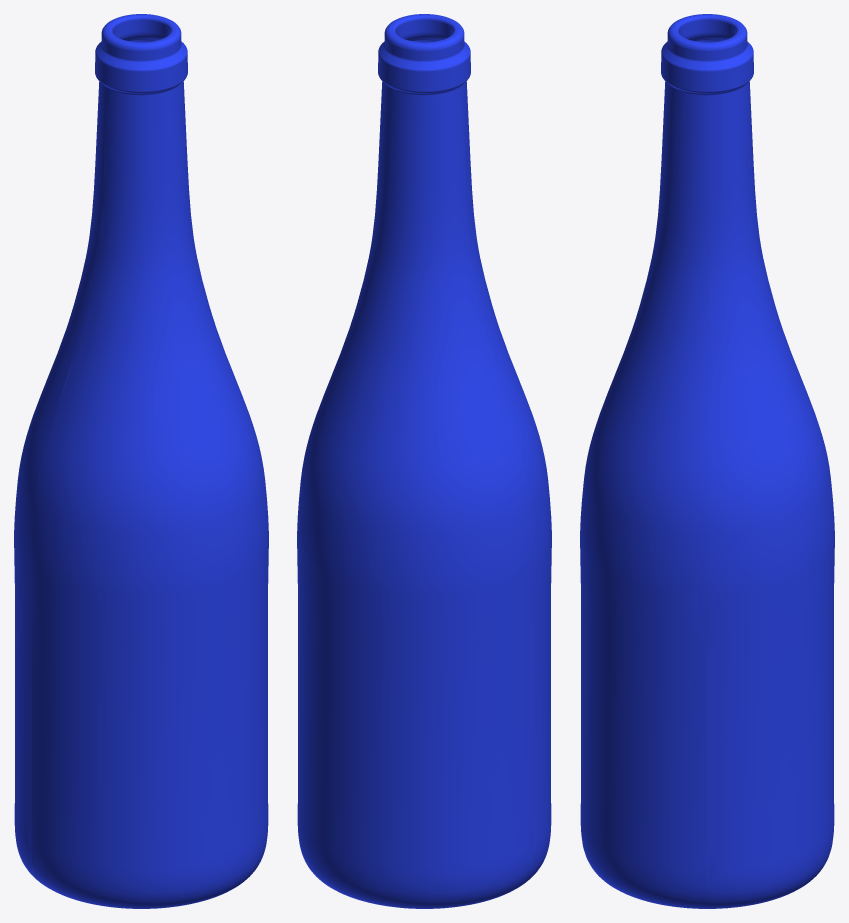
File: bottle.obj
3 views of the same model, side by side, from view 1: azimuth 30°, elevation 25°; view 2: azimuth 150°, elevation 25°; view 3: azimuth 270°, elevation 25° (orthographic).
Parts seen in each view (by area): view 1: object_1; view 2: object_1; view 3: object_1.
Boxes of the visible parts, left/top/right/bottom form: object_1: left=14, top=14, right=268, bottom=908; object_1: left=297, top=14, right=551, bottom=908; object_1: left=580, top=14, right=834, bottom=908.
Bounding box in the file's own units: 16.84 × 60.83 × 16.84.
Materials: 1 (1 with a texture image).
